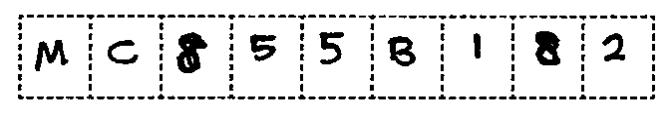1: (461, 29, 493, 66)
2: (595, 25, 635, 70)
5: (311, 25, 351, 69), (244, 28, 283, 69)
8: (171, 25, 212, 77), (527, 26, 567, 72)
B: (381, 29, 424, 72)
C: (104, 33, 144, 74)
M: (31, 32, 75, 78)
